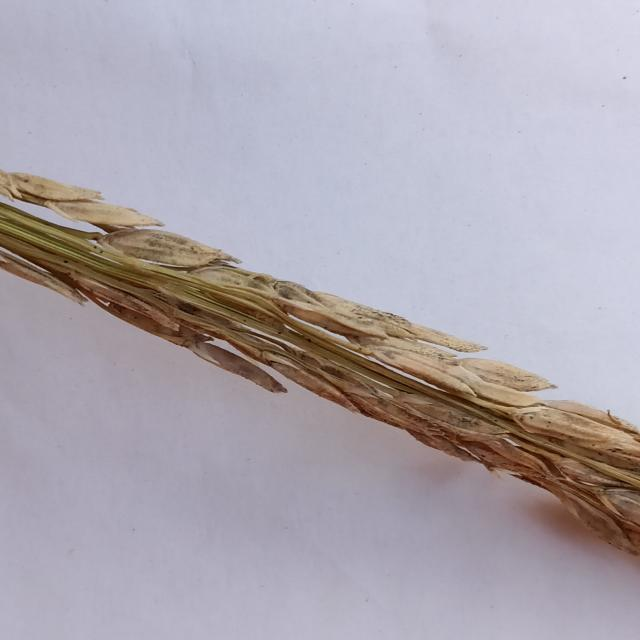Neck_Blast: (0, 171, 640, 545)
